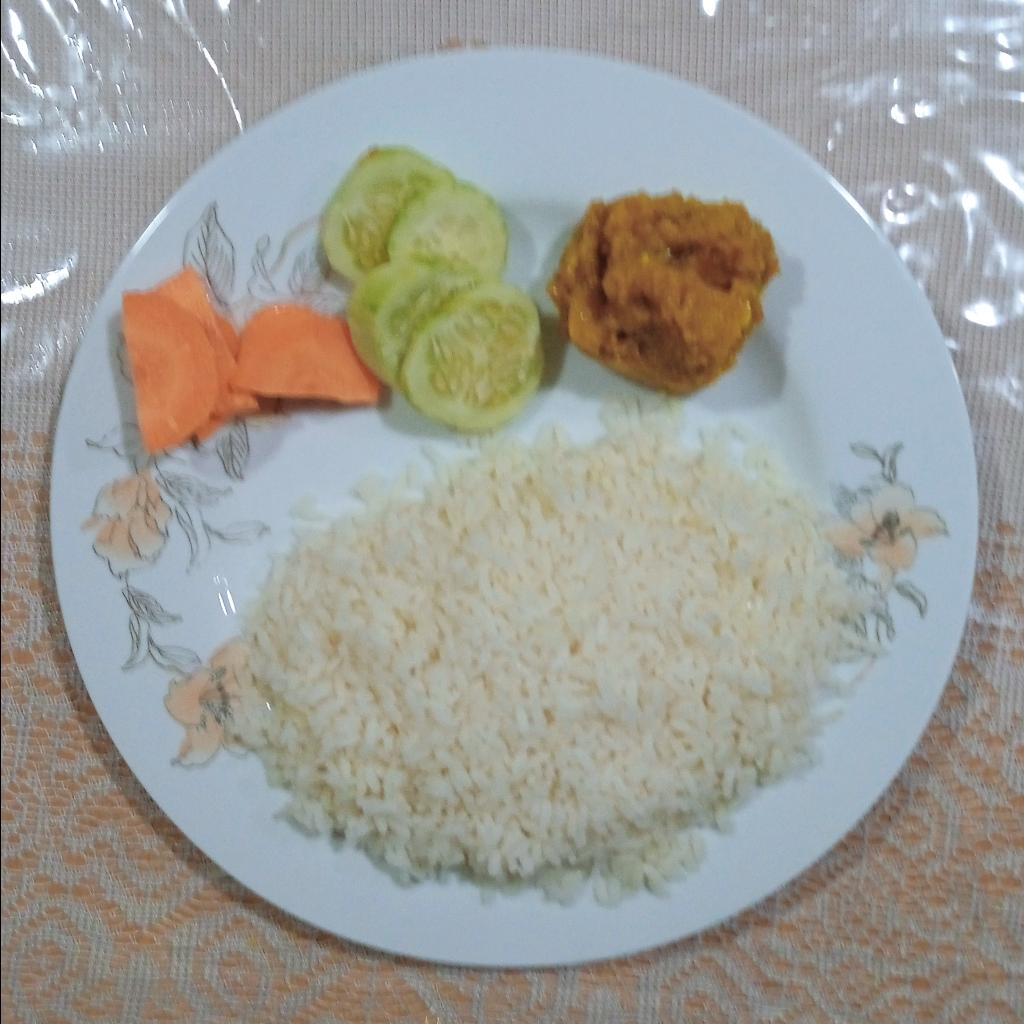carrot: (118, 263, 380, 455)
cucumber: (321, 147, 546, 432)
kumra-vaji: (544, 191, 779, 396)
rice: (233, 392, 881, 906)
